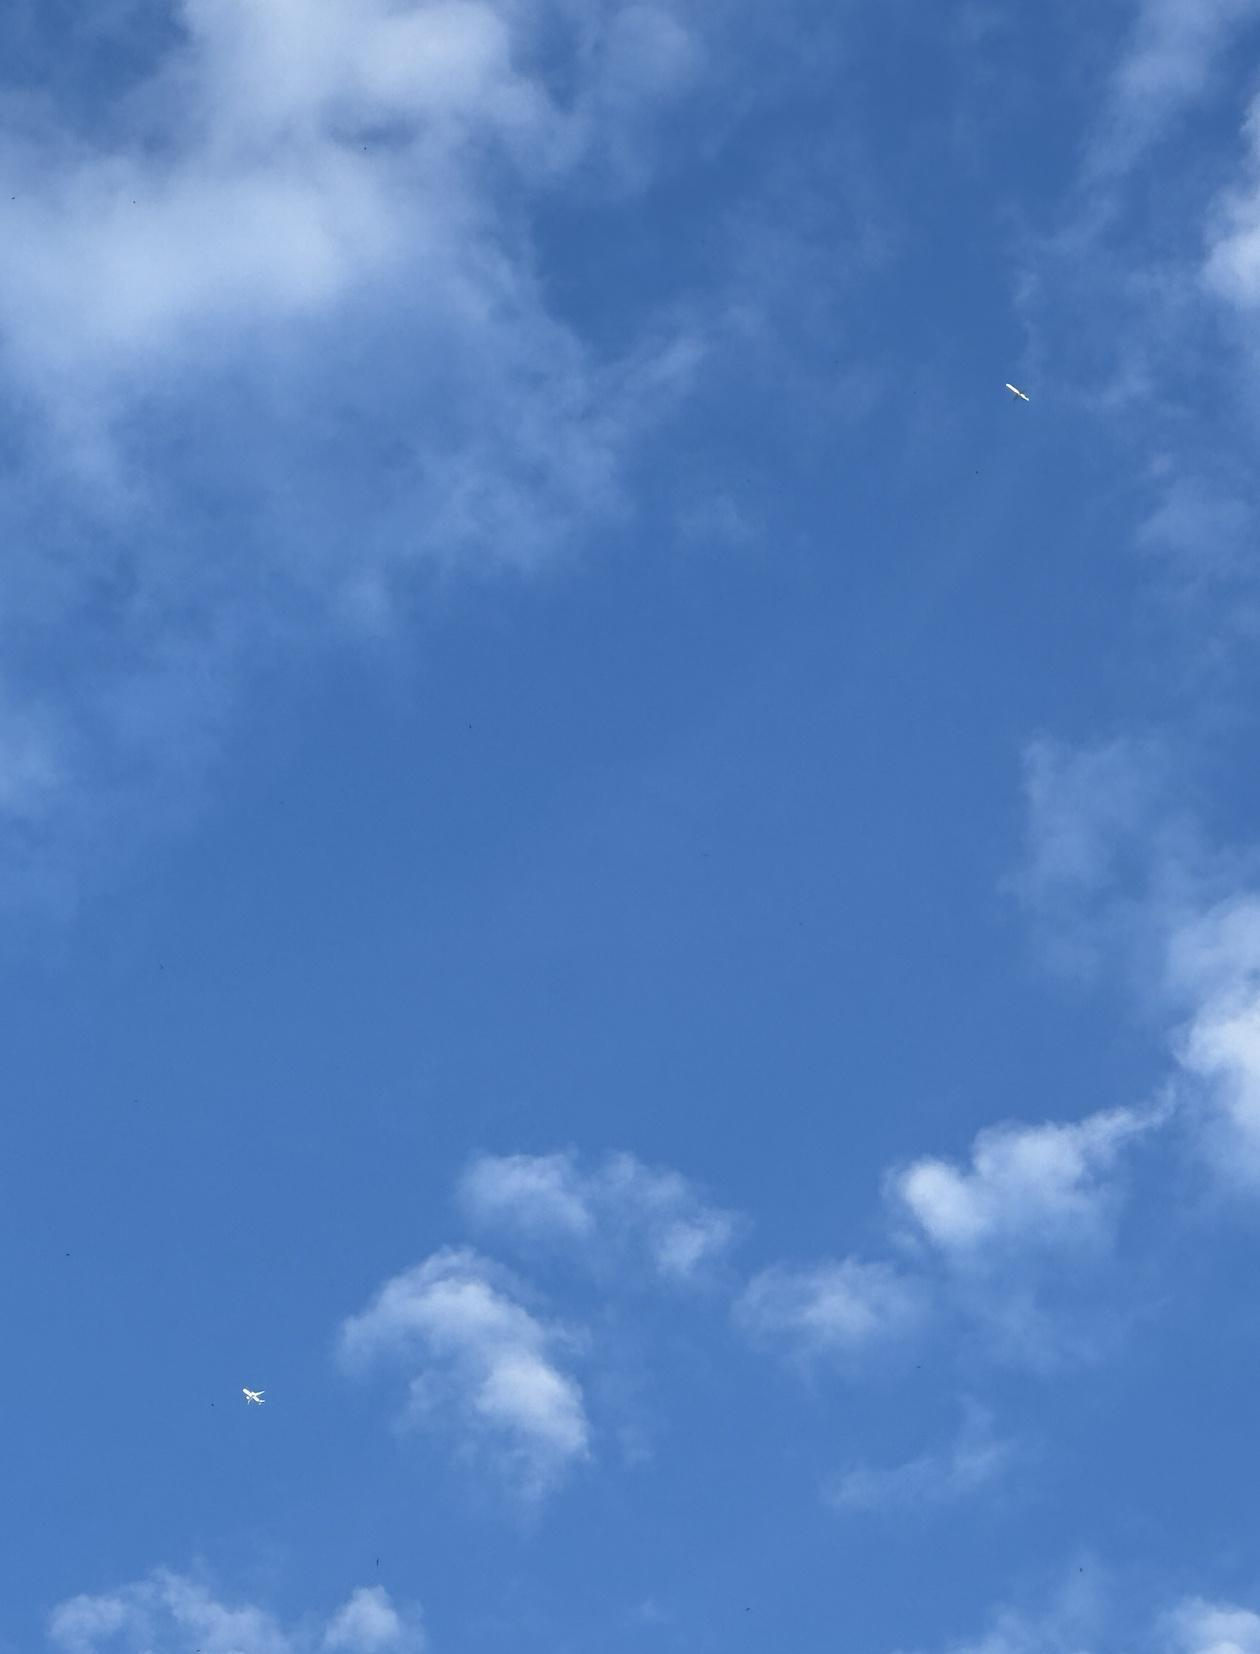Plane: (978, 369, 1067, 417), (232, 1363, 282, 1425)
